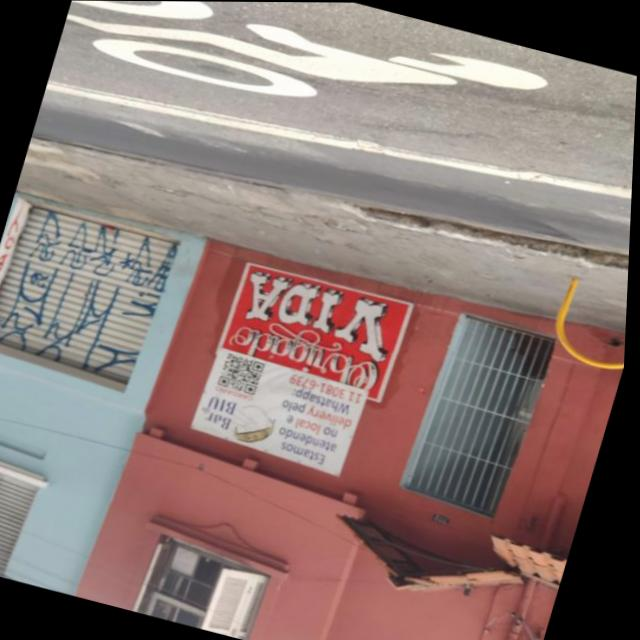qrcode: (221, 351, 268, 394)
